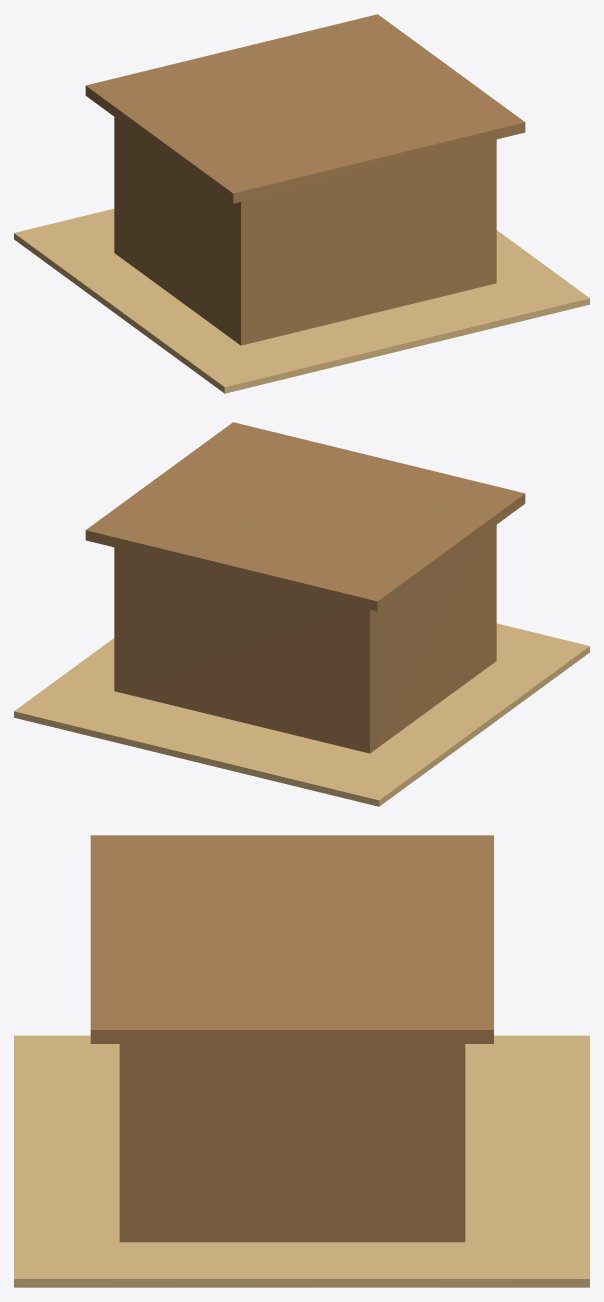
Rendered from Coastal-warehouse.glb.
3 renders of one model, top to bottom at view 1: azimuth 30°, elevation 25°; view 2: azimuth 150°, elevation 25°; view 3: azimuth 270°, elevation 25°, orthographic. The views are drawn at different scales.
Parts seen in each view (by area): view 1: coastal-warehouse-static-coastal-warehouse-wall, coastal-warehouse-static-coastal-warehouse-teal, coastal-warehouse-static-coastal-warehouse-earth; view 2: coastal-warehouse-static-coastal-warehouse-wall, coastal-warehouse-static-coastal-warehouse-teal, coastal-warehouse-static-coastal-warehouse-earth; view 3: coastal-warehouse-static-coastal-warehouse-teal, coastal-warehouse-static-coastal-warehouse-earth, coastal-warehouse-static-coastal-warehouse-wall.
Boxes of the visible parts, bbox=[...] form: coastal-warehouse-static-coastal-warehouse-wall: bbox=[114, 117, 496, 345]; coastal-warehouse-static-coastal-warehouse-teal: bbox=[85, 14, 525, 203]; coastal-warehouse-static-coastal-warehouse-earth: bbox=[14, 208, 589, 393]; coastal-warehouse-static-coastal-warehouse-wall: bbox=[114, 525, 496, 753]; coastal-warehouse-static-coastal-warehouse-teal: bbox=[85, 422, 525, 611]; coastal-warehouse-static-coastal-warehouse-earth: bbox=[14, 623, 589, 806]; coastal-warehouse-static-coastal-warehouse-teal: bbox=[90, 835, 493, 1043]; coastal-warehouse-static-coastal-warehouse-earth: bbox=[14, 1035, 589, 1287]; coastal-warehouse-static-coastal-warehouse-wall: bbox=[119, 1044, 465, 1242].
Size of the model in its own units: 6 by 2.68 by 6.
